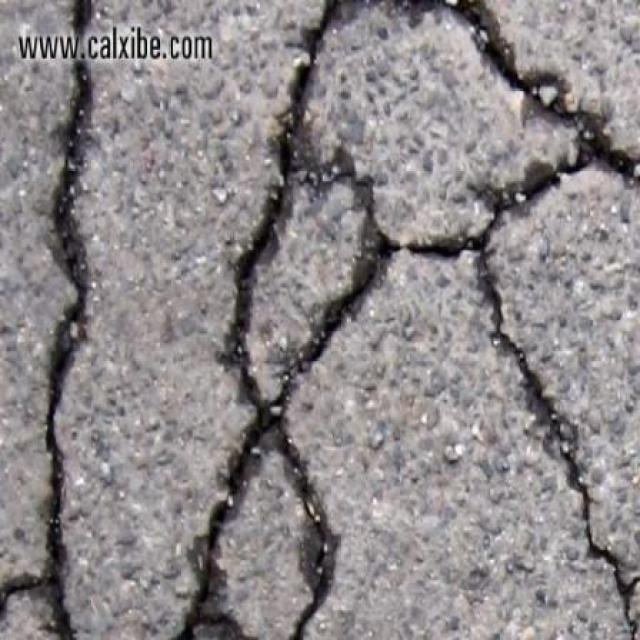Crack: (172, 0, 640, 639), (0, 0, 94, 639)
